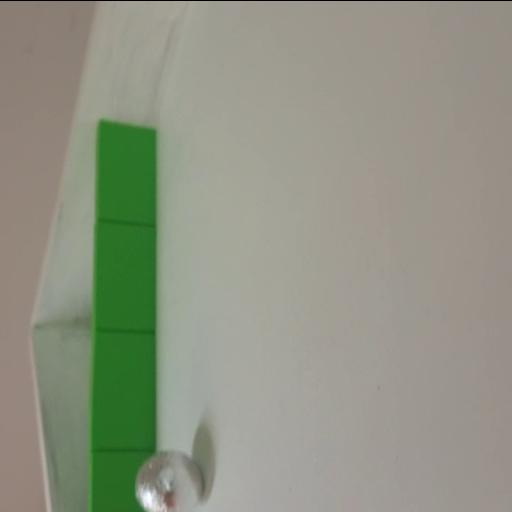alive: (136, 449, 204, 511)
